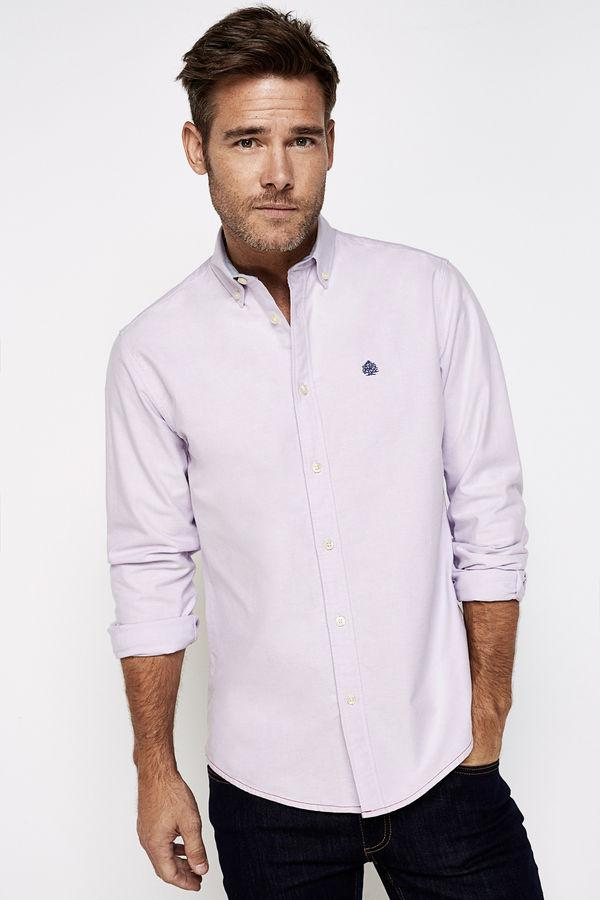teeshirt: (94, 228, 537, 791)
